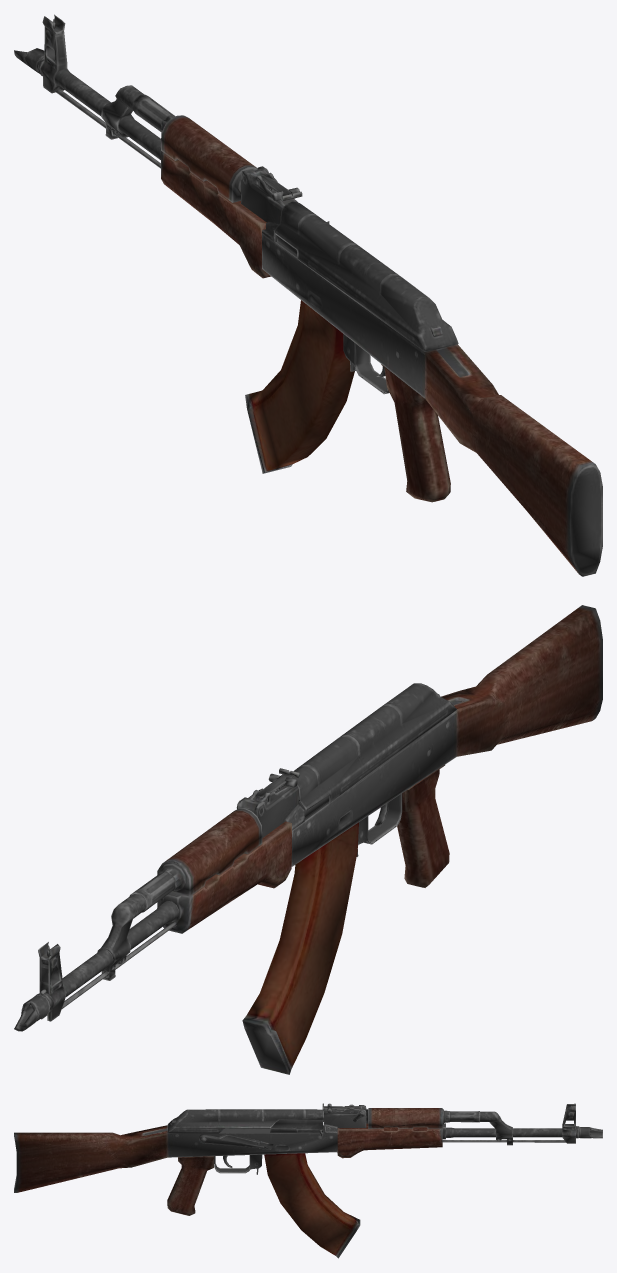
The model's file is field-akm.low.glb.
The picture shows the model from 3 angles, top to bottom: view 1: azimuth 30°, elevation 25°; view 2: azimuth 150°, elevation 25°; view 3: azimuth 270°, elevation 25°; orthographic projection. The views are drawn at different scales.
Parts seen in each view (by area): view 1: body, magazine; view 2: body, magazine; view 3: body, magazine, bolt.
Part boxes in pixels (left/top/right/bottom): body: left=14, top=14, right=602, bottom=576; magazine: left=245, top=300, right=354, bottom=473; body: left=14, top=605, right=602, bottom=1031; magazine: left=242, top=822, right=358, bottom=1074; body: left=14, top=1103, right=602, bottom=1215; magazine: left=264, top=1153, right=360, bottom=1258; bolt: left=270, top=1118, right=323, bottom=1136.
Size of the model in its own units: 0.054 by 0.2737 by 0.9723.
1 material, 1 textured.
